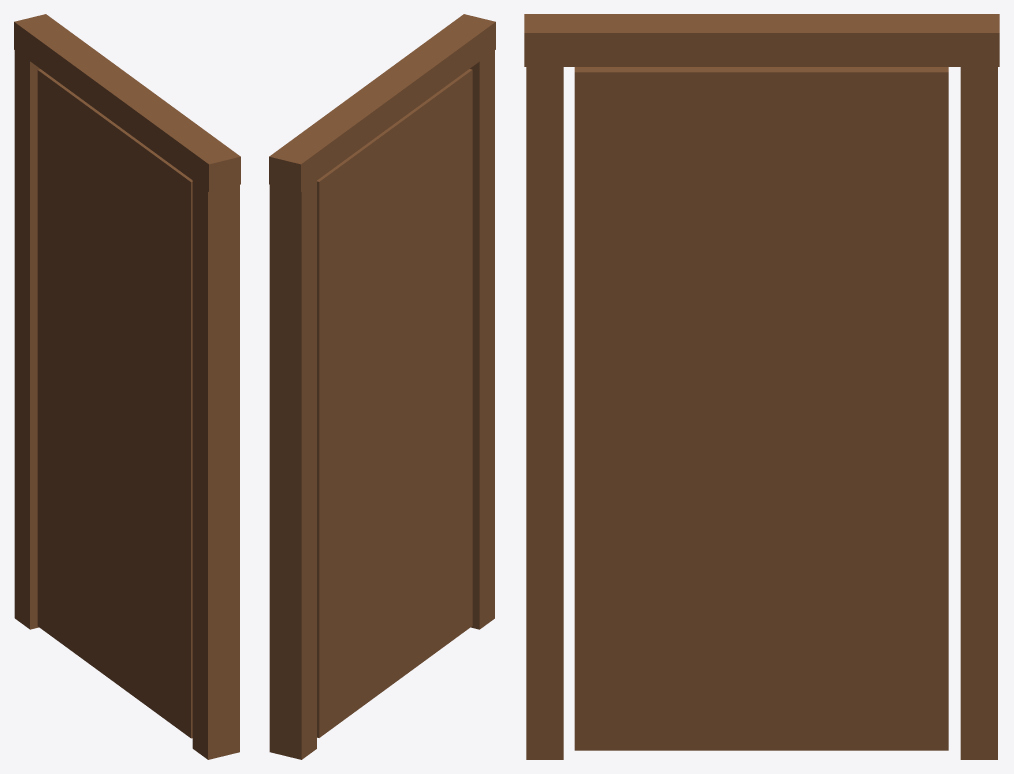
The model's file is Door.fbx.
3 renders of one model, left to right at view 1: azimuth 30°, elevation 25°; view 2: azimuth 150°, elevation 25°; view 3: azimuth 270°, elevation 25°, orthographic. The views are drawn at different scales.
Parts seen in each view (by area): view 1: Door, Doorframe; view 2: Door, Doorframe; view 3: Door, Doorframe.
Boxes of the visible parts, x1=… form: Door: x1=37, y1=69, x2=192, y2=738; Doorframe: x1=14, y1=14, x2=240, y2=759; Door: x1=317, y1=69, x2=472, y2=737; Doorframe: x1=269, y1=14, x2=495, y2=759; Door: x1=574, y1=67, x2=948, y2=750; Doorframe: x1=524, y1=14, x2=999, y2=759.
Size of the model in its own units: 120 by 2143 by 1270.
